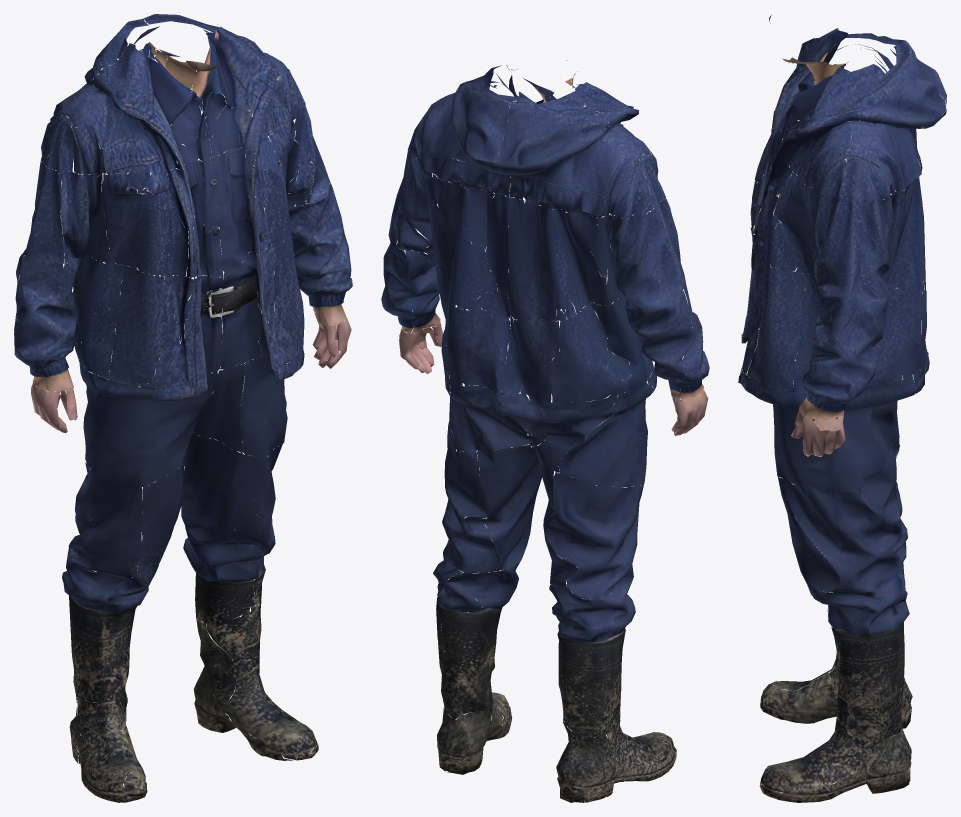
The model's file is police_body_nohead.glb.
The picture shows the model from 3 angles, left to right: view 1: azimuth 30°, elevation 25°; view 2: azimuth 150°, elevation 25°; view 3: azimuth 270°, elevation 25°; orthographic projection. The views are drawn at different scales.
Visible parts, largest first — view 1: prop_police_body; view 2: prop_police_body; view 3: prop_police_body.
Boxes of the visible parts, box(x1,y1,x2,y2) form: prop_police_body: box(14, 14, 352, 802); prop_police_body: box(381, 60, 709, 802); prop_police_body: box(738, 14, 946, 802).
Size of the model in its own units: 0.4066 by 0.8878 by 0.2272.
1 material, 1 textured.
